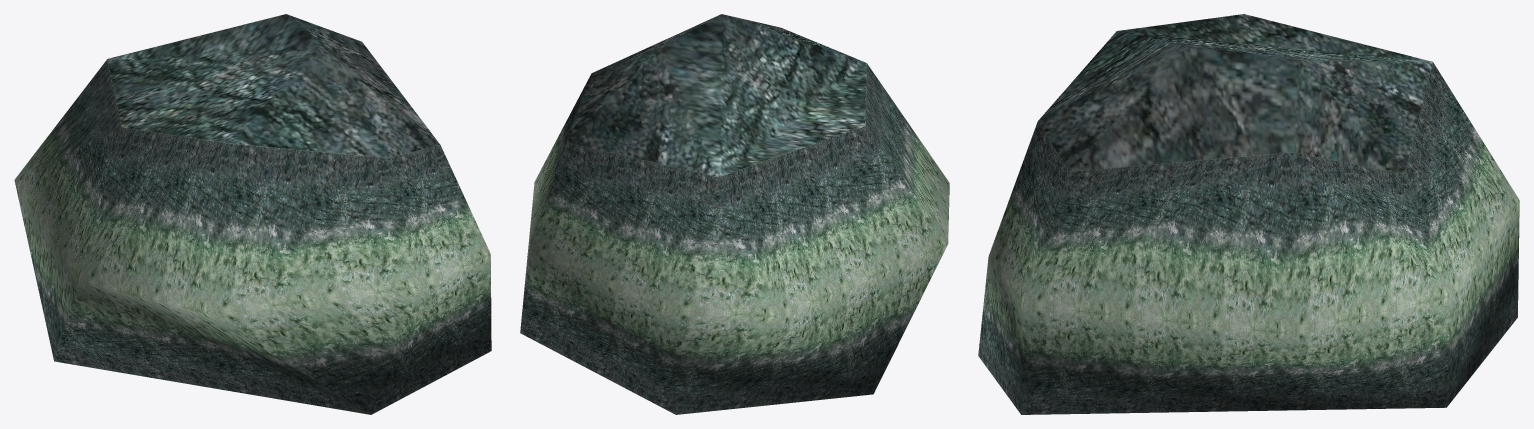
Rendered from rock_beach_dark_md_l2.fbx.
3 renders of one model, left to right at view 1: azimuth 30°, elevation 25°; view 2: azimuth 150°, elevation 25°; view 3: azimuth 270°, elevation 25°, orthographic. The views are drawn at different scales.
Visible parts, largest first — view 1: mesh_node; view 2: mesh_node; view 3: mesh_node.
Part boxes in pixels (bbox=[...]): mesh_node: bbox=[14, 14, 491, 414]; mesh_node: bbox=[520, 14, 949, 414]; mesh_node: bbox=[978, 14, 1519, 414].
Bounding box in the file's own units: 7.45 × 5.57 × 7.92.
